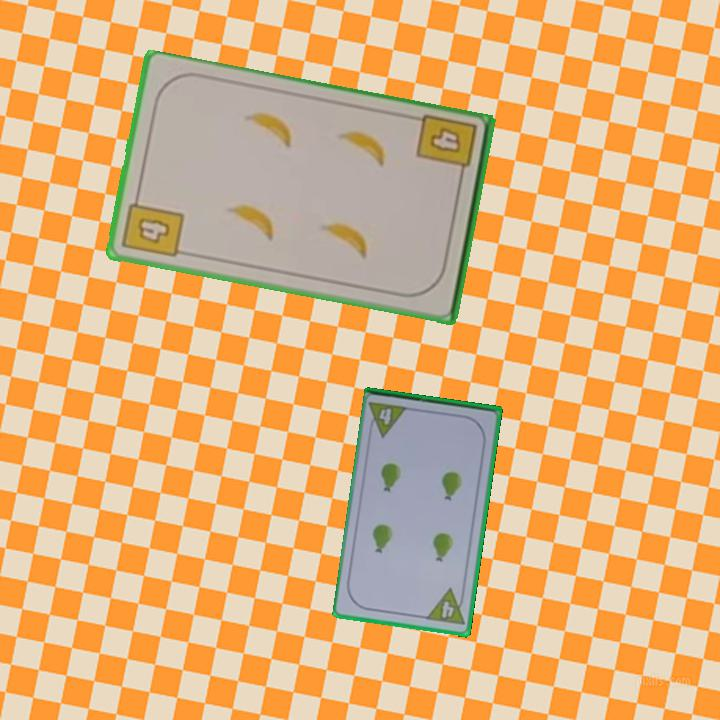4b: (413, 111, 480, 185), (119, 190, 187, 261)
4p: (423, 585, 468, 628), (365, 398, 411, 440)
